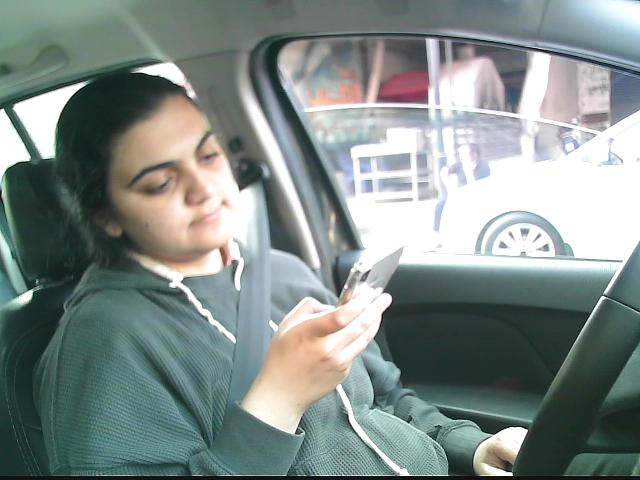PhoneUse: (335, 243, 407, 316)
